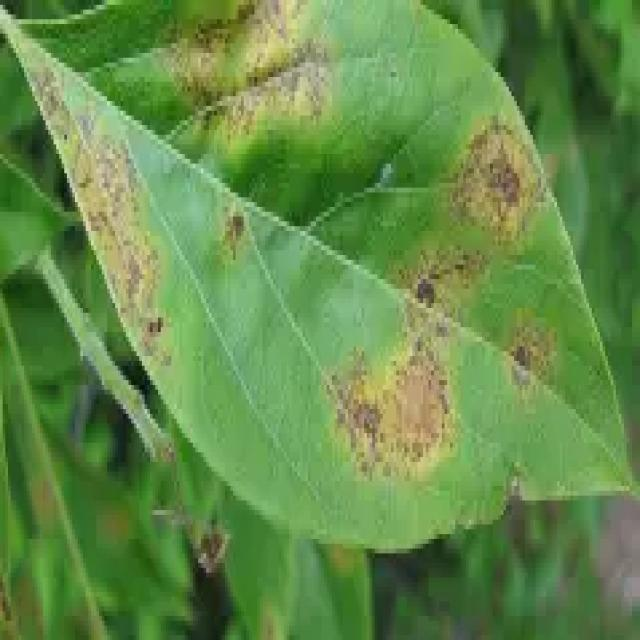leaf_spot: (0, 0, 637, 549)
